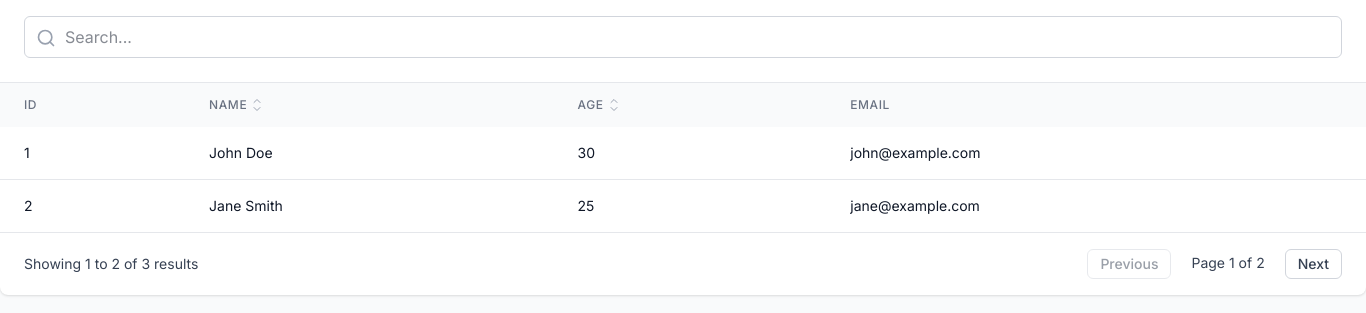
Test case: DataTable Component › should paginate data correctly
This screenshot has width=1366, height=313.
Expected: the text "John Doe" is shown, x1=185 y1=127 x2=554 y2=180
Expected: the text "Jane Smith" is shown, x1=185 y1=180 x2=554 y2=232
// Navigate to next page
What coordinates should you click on to do the following:
click the button "Next"
I would click on:
 (1313, 264)
Its box is x1=1285 y1=249 x2=1342 y2=279.
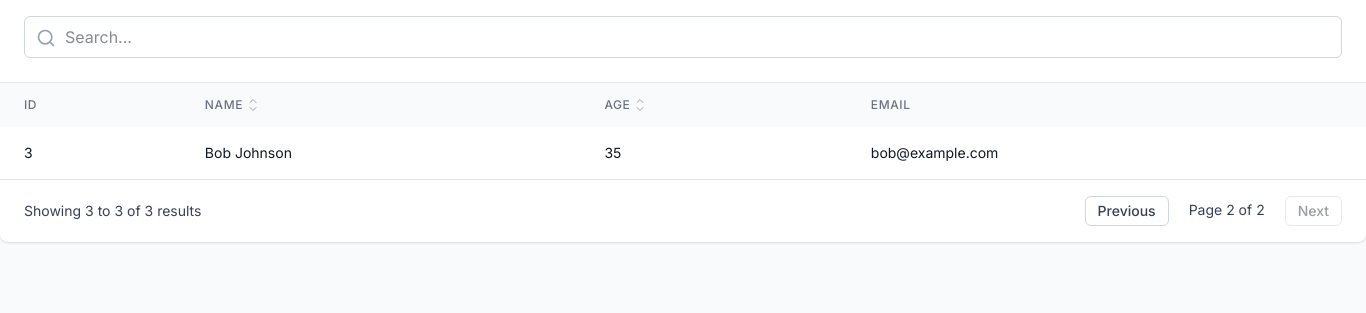
Expected: the text "John Doe" is gone
Expected: the text "Jane Smith" is gone
Expected: the text "Bob Johnson" is shown, x1=181 y1=127 x2=580 y2=179
